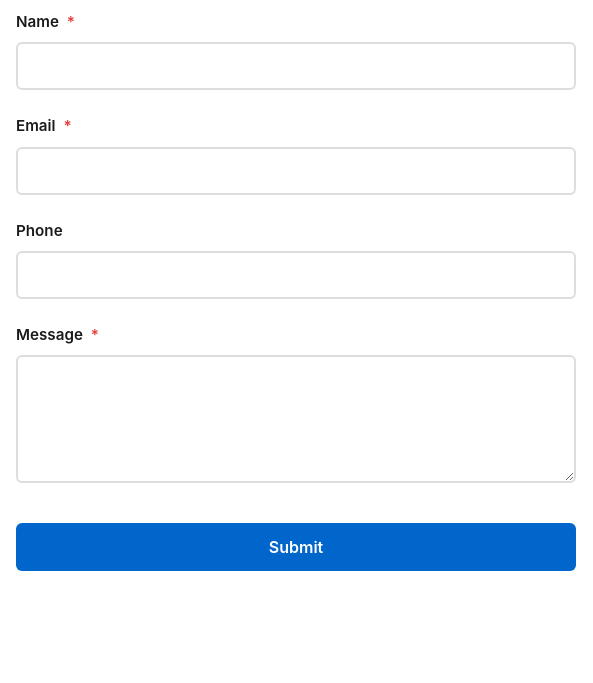
Test: Contact_Form › Validation for required fields › clears error when user starts typing in a field
The image size is (593, 683).
Click the button "Submit".
click(296, 547)  # box [16, 523, 576, 571]
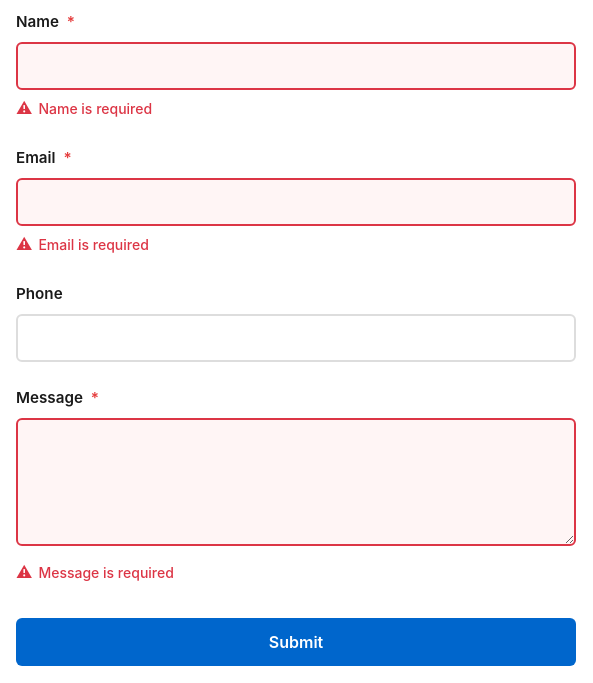
Result: the text "Name is required" is shown at [38, 100, 152, 117]
Type "John" into the field labelled "Name *".
click(296, 66); type("John")  # box [16, 42, 576, 90]
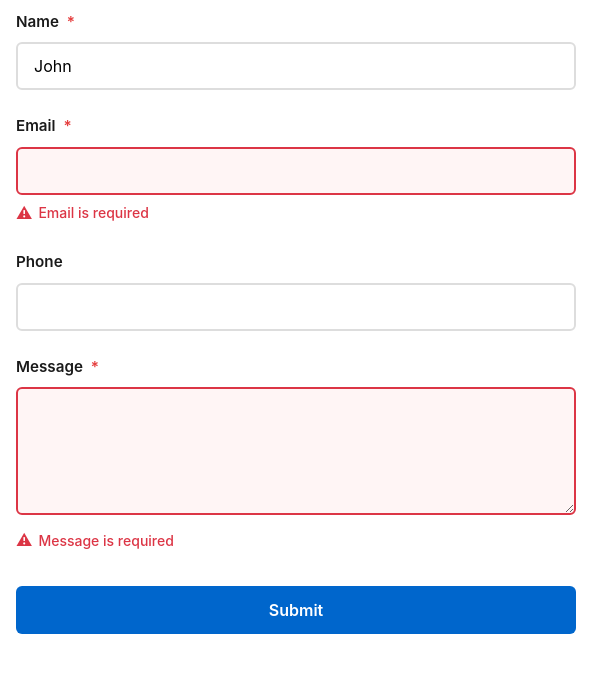
Result: the text "Name is required" is gone
